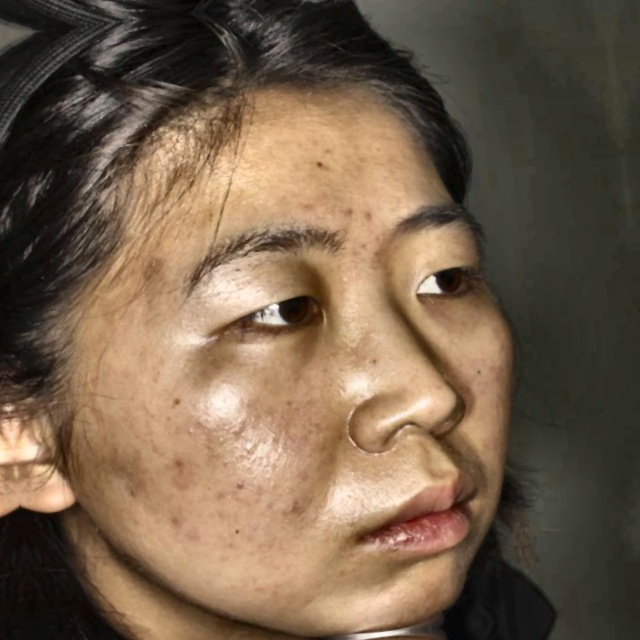comedone: (167, 449, 192, 481)
